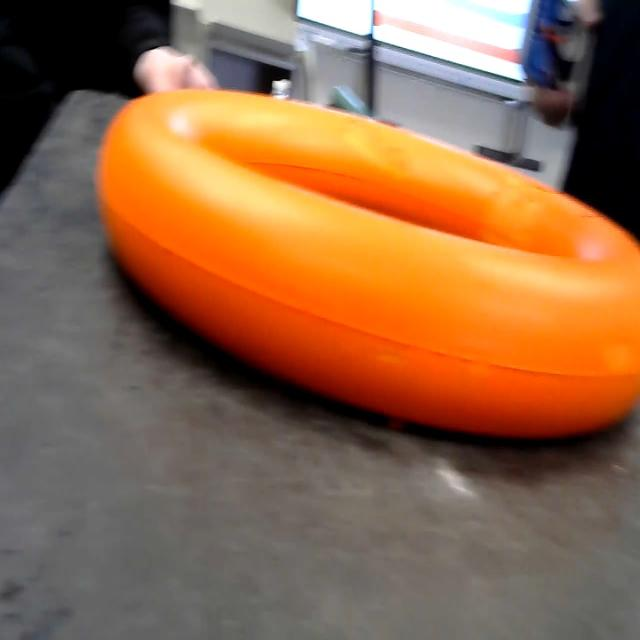note: (92, 69, 640, 460)
